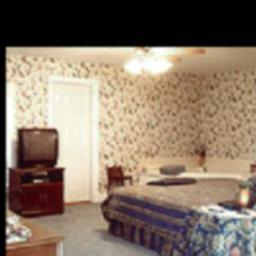Puerta: (51, 83, 89, 199)
